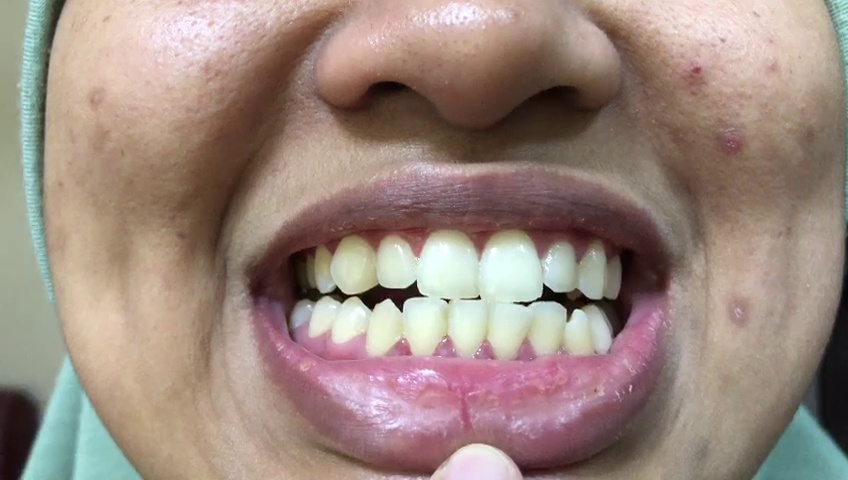1st Molar: (290, 296, 317, 331)
1st Premolar: (333, 294, 372, 348), (581, 302, 612, 354), (312, 242, 334, 294), (604, 250, 624, 303)
2nd Premolar: (310, 291, 340, 340)
Canine: (329, 233, 377, 296), (367, 301, 403, 356), (579, 238, 608, 302), (566, 313, 593, 360)
Central Incisor: (478, 228, 544, 303), (415, 230, 479, 300), (491, 299, 532, 363), (449, 299, 490, 358)
Lateral Incisor: (404, 296, 450, 358), (374, 235, 416, 288), (530, 302, 567, 356), (544, 239, 579, 294)
